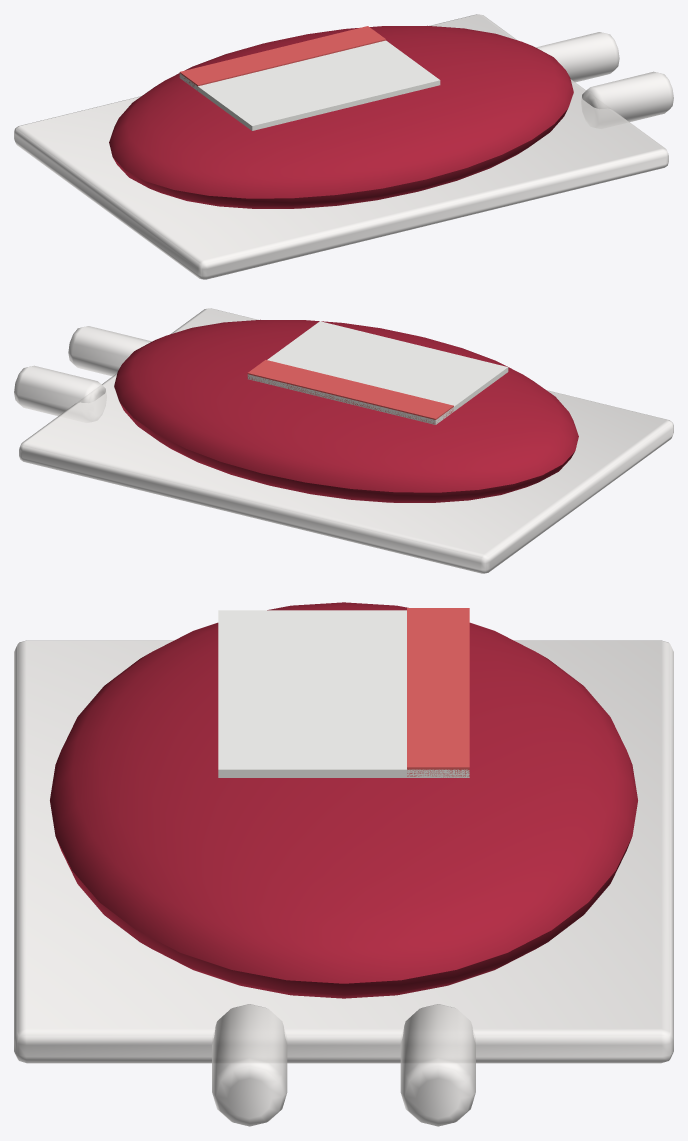
The model's file is bolsa_hematies.glb.
The picture shows the model from 3 angles, top to bottom: view 1: azimuth 30°, elevation 25°; view 2: azimuth 150°, elevation 25°; view 3: azimuth 270°, elevation 25°; orthographic projection. The views are drawn at different scales.
Parts seen in each view (by area): view 1: cuerpo, borde, etiqueta, etiqueta_roja, puerto-1, puerto1; view 2: cuerpo, borde, etiqueta, etiqueta_roja, puerto1, puerto-1; view 3: cuerpo, borde, etiqueta, etiqueta_roja, puerto-1, puerto1.
Boxes of the visible parts, box(x1,y1,x2,y2) form: cuerpo: box(109, 25, 573, 208); borde: box(14, 14, 668, 279); etiqueta: box(179, 40, 440, 130); etiqueta_roja: box(179, 26, 385, 90); puerto-1: box(582, 71, 673, 121); puerto1: box(536, 32, 619, 82); cuerpo: box(114, 319, 578, 502); borde: box(19, 308, 673, 573); etiqueta: box(247, 321, 508, 424); etiqueta_roja: box(247, 360, 453, 424); puerto1: box(14, 365, 105, 415); puerto-1: box(68, 326, 151, 376); cuerpo: box(50, 602, 637, 998); borde: box(14, 640, 673, 1063); etiqueta: box(218, 610, 469, 777); etiqueta_roja: box(407, 608, 469, 777); puerto-1: box(212, 1004, 287, 1126); puerto1: box(400, 1004, 475, 1126).
Size of the model in its own units: 0.34 by 0.0582 by 0.21.
